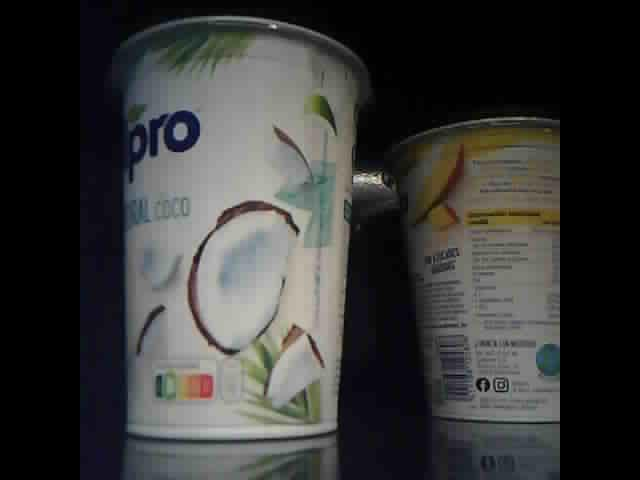alpro: (109, 16, 371, 441), (392, 114, 560, 426)
